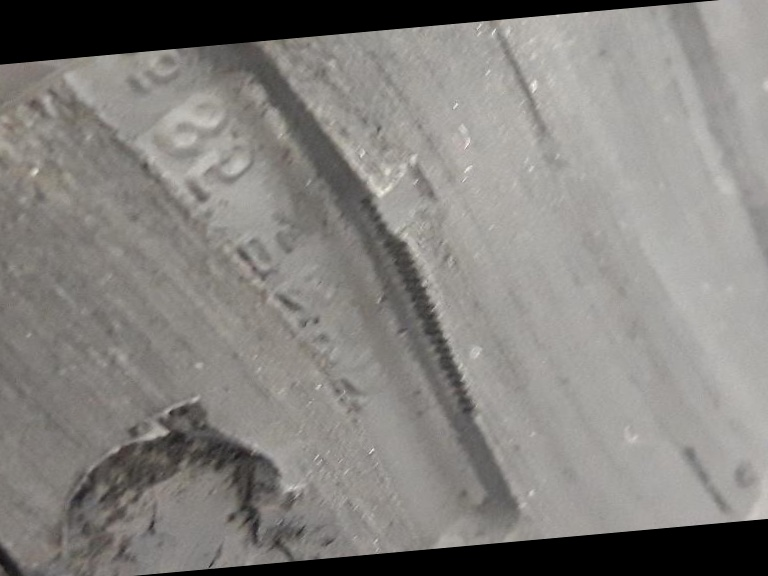temoin:0: (341, 148, 463, 261)
